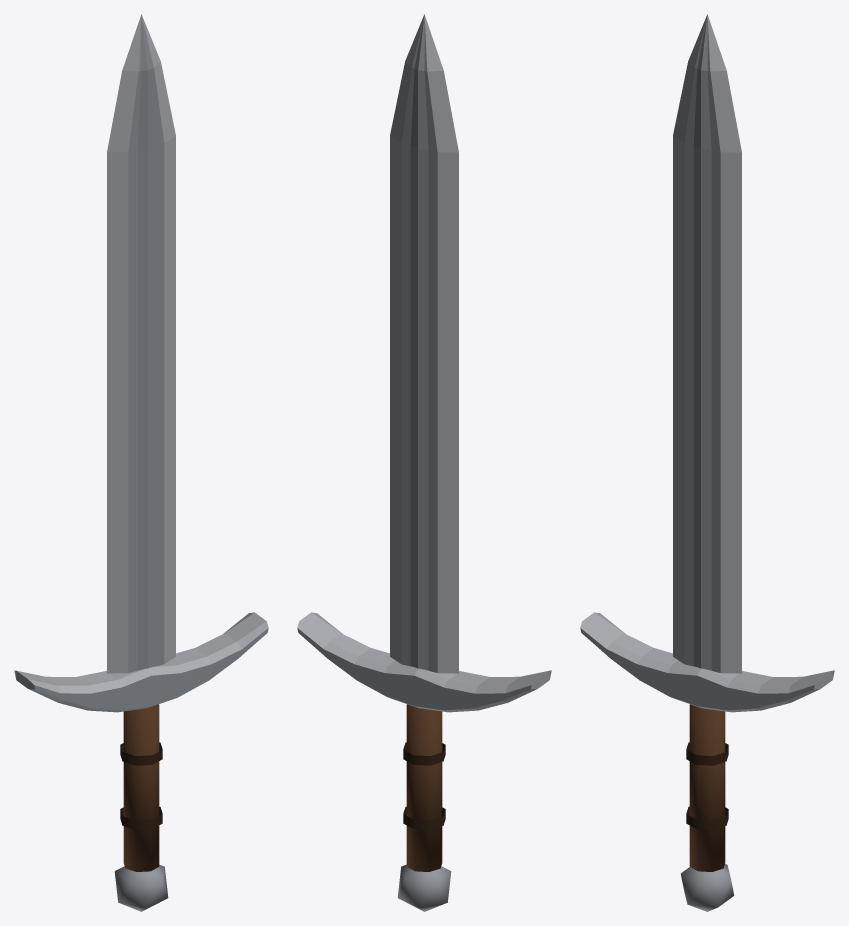
Rendered from iron_broadsword.glb.
3 views of the same model, side by side, from view 1: azimuth 30°, elevation 25°; view 2: azimuth 150°, elevation 25°; view 3: azimuth 330°, elevation 25° (orthographic).
Parts seen in each view (by area): view 1: iron_broadsword_v0; view 2: iron_broadsword_v0; view 3: iron_broadsword_v0.
Part boxes in pixels (x1=…): iron_broadsword_v0: x1=14, y1=14, x2=268, y2=911; iron_broadsword_v0: x1=297, y1=14, x2=551, y2=911; iron_broadsword_v0: x1=580, y1=14, x2=834, y2=911.
Bounding box in the file's own units: 0.3105 × 1.12 × 0.0578.
